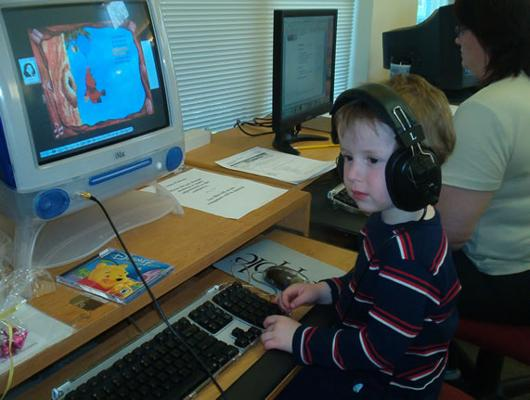person: (259, 72, 465, 400)
